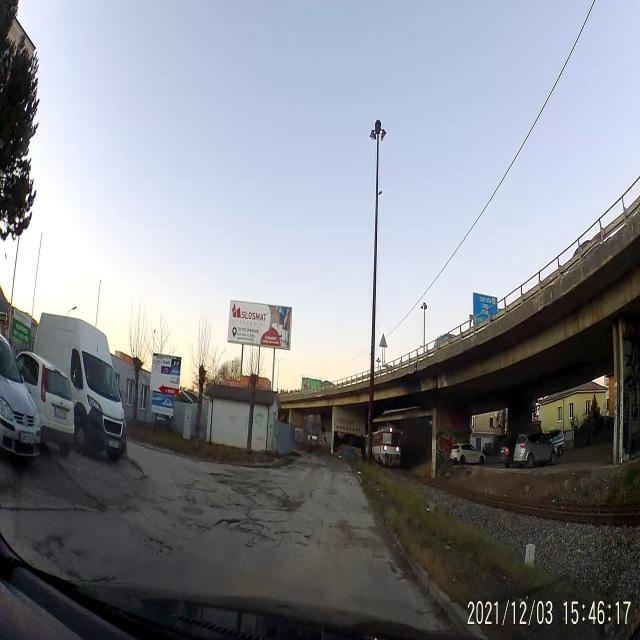Manhole: (182, 503, 206, 521), (240, 522, 263, 530)
Pothole: (144, 536, 174, 558), (222, 514, 244, 532)
